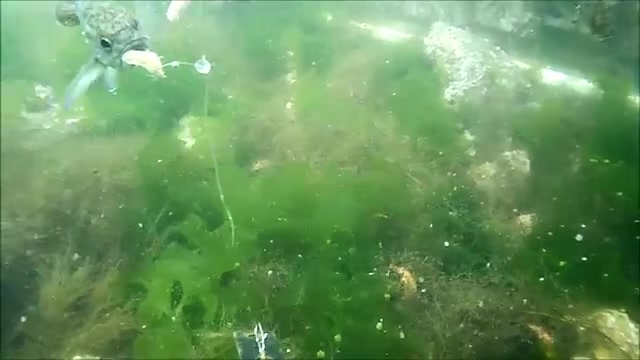mebaru: (55, 0, 165, 111)
